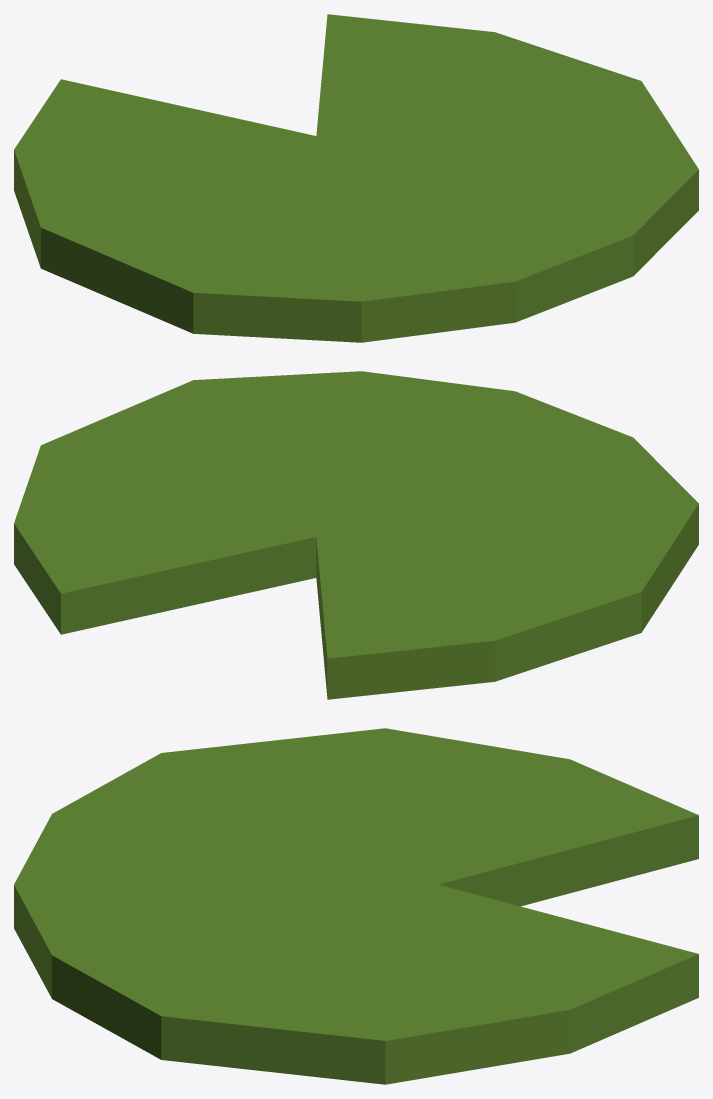
File: SmallLillyPad.fbx
The picture shows the model from 3 angles, top to bottom: view 1: azimuth 30°, elevation 25°; view 2: azimuth 150°, elevation 25°; view 3: azimuth 270°, elevation 25°; orthographic projection. The views are drawn at different scales.
Visible parts, largest first — view 1: Cylinder.002; view 2: Cylinder.002; view 3: Cylinder.002.
Boxes of the visible parts, x1,y1,x2,y2 form: Cylinder.002: (14,14,698,342); Cylinder.002: (14,371,698,699); Cylinder.002: (14,728,698,1084).
Size of the model in its own units: 0.0771 by 0.0714 by 0.00503.
